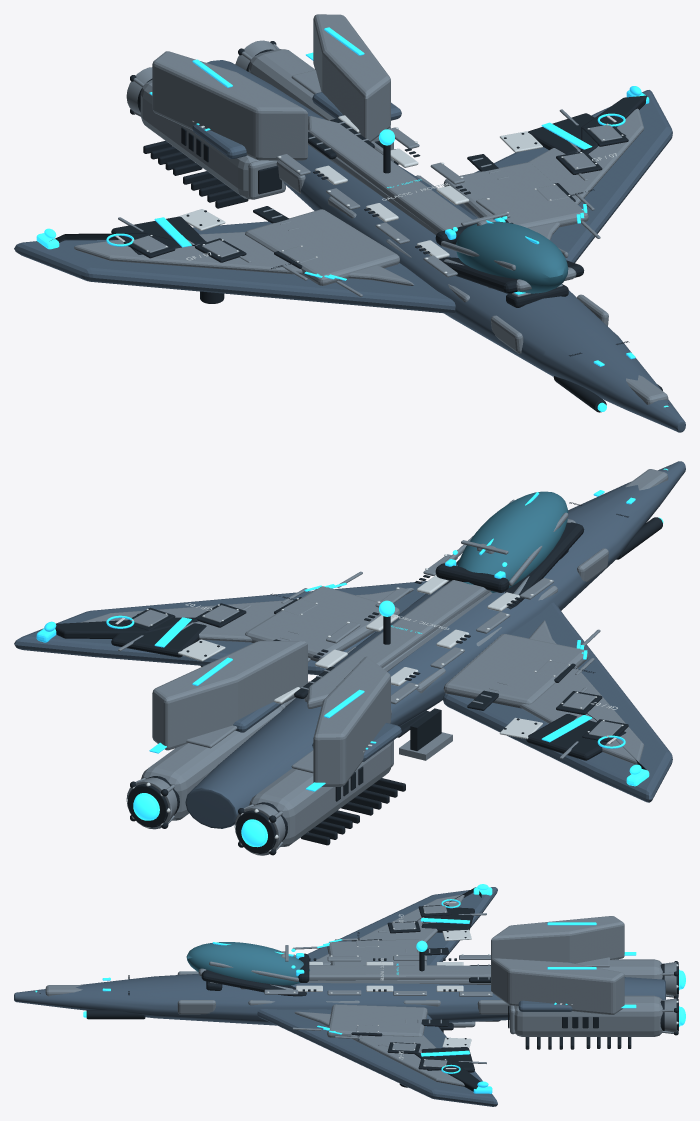
Rendered from player_fighter.glb.
3 renders of one model, top to bottom at view 1: azimuth 30°, elevation 25°; view 2: azimuth 150°, elevation 25°; view 3: azimuth 270°, elevation 25°, orthographic. The views are drawn at different scales.
Visible parts, largest first — view 1: player_fighter; view 2: player_fighter; view 3: player_fighter.
Part boxes in pixels (x1=…): player_fighter: x1=14, y1=14, x2=685, y2=432; player_fighter: x1=14, y1=461, x2=685, y2=855; player_fighter: x1=14, y1=884, x2=685, y2=1106.
Bounding box in the file's own units: 10.85 × 2.17 × 14.33.
Materials: 7 (4 with a texture image).
